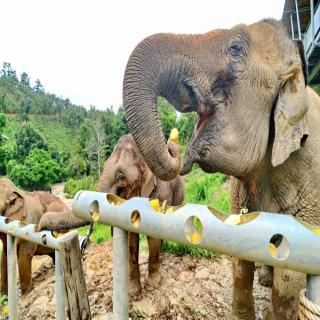Elephant: (120, 16, 320, 317)
